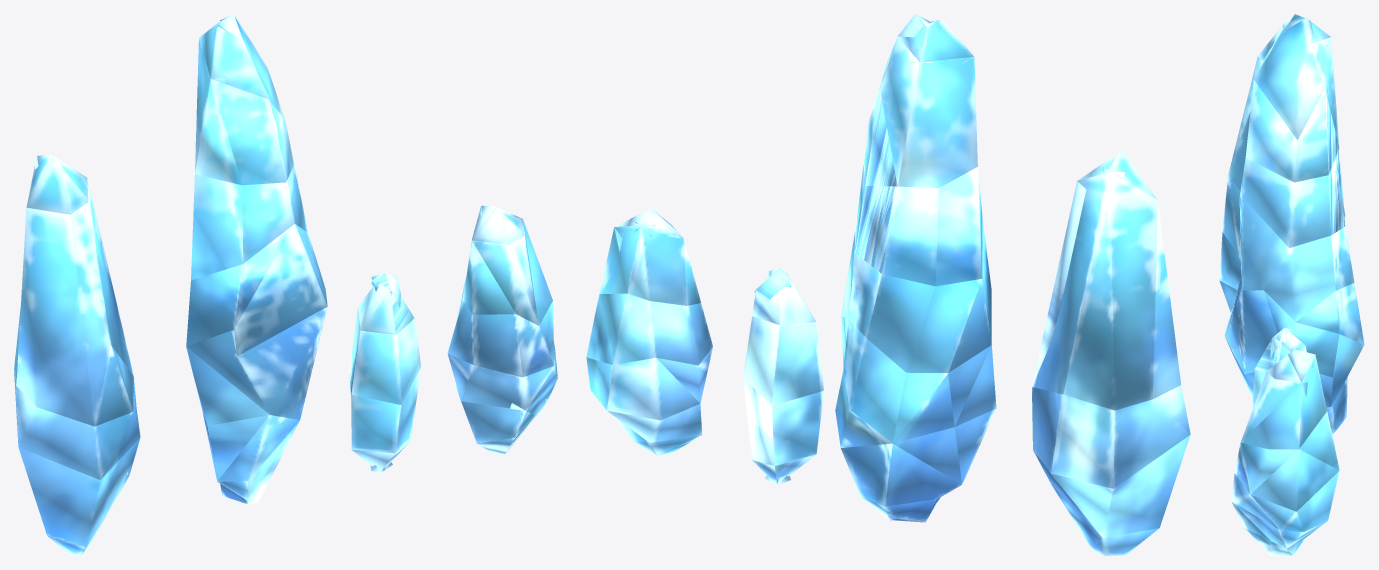
The model's file is Fake_exploed_crystal.fbx.
The picture shows the model from 3 angles, left to right: view 1: azimuth 30°, elevation 25°; view 2: azimuth 150°, elevation 25°; view 3: azimuth 270°, elevation 25°; orthographic projection. The views are drawn at different scales.
Visible parts, largest first — view 1: Crystal.035, Crystal.074, Crystal.077, Crystal.064, Crystal.057, Crystal.045, Crystal.033, Crystal.036, Crystal.072, Crystal.065, Crystal.105, Crystal.085 (+33 smaller); view 2: Crystal.028, Crystal.055, Crystal.027, Crystal.025, Crystal.040, Crystal.063, Crystal.062, Crystal.045, Crystal.070, Crystal.071, Crystal.044, Crystal.082 (+40 smaller); view 3: Crystal.038, Crystal.052, Crystal.058, Crystal.066, Crystal.075, Crystal.069, Crystal.138, Crystal.059, Crystal.078, Crystal.079, Crystal.140, Crystal.129 (+34 smaller).
Part boxes in pixels (box(x1,y1,x2,y2)): Crystal.035: box(16, 207, 94, 426); Crystal.074: box(234, 224, 327, 356); Crystal.077: box(237, 306, 327, 419); Crystal.064: box(191, 174, 243, 280); Crystal.057: box(207, 74, 285, 185); Crystal.045: box(18, 447, 100, 547); Crystal.033: box(70, 202, 110, 426); Crystal.036: box(16, 386, 100, 479); Crystal.072: box(186, 264, 243, 346); Crystal.065: box(242, 182, 294, 263); Crystal.105: box(351, 330, 401, 404); Crystal.085: box(186, 347, 269, 425); Crystal.028: box(1102, 167, 1157, 410); Crystal.055: box(897, 56, 977, 187); Crystal.027: box(1063, 173, 1114, 410); Crystal.025: box(1032, 172, 1124, 394); Crystal.040: box(1051, 394, 1114, 488); Crystal.063: box(935, 167, 981, 286); Crystal.062: box(882, 186, 938, 286); Crystal.045: box(1103, 435, 1190, 537); Crystal.070: box(866, 274, 935, 372); Crystal.071: box(906, 279, 981, 373); Crystal.044: box(1113, 399, 1190, 488); Crystal.082: box(849, 339, 906, 443); Crystal.038: box(1264, 235, 1335, 321); Crystal.052: box(1253, 19, 1313, 139); Crystal.058: box(1245, 80, 1297, 181); Crystal.066: box(1241, 158, 1294, 247); Crystal.075: box(1241, 197, 1288, 290); Crystal.069: box(1289, 175, 1331, 247); Crystal.138: box(1241, 382, 1307, 449); Crystal.059: box(1294, 88, 1328, 182); Crystal.078: box(1242, 290, 1277, 374); Crystal.079: box(1264, 291, 1339, 377); Crystal.140: box(1250, 449, 1299, 511); Crystal.129: box(1299, 355, 1326, 448).
Bounding box in the file's own units: 20.45 × 17.19 × 5.27.
